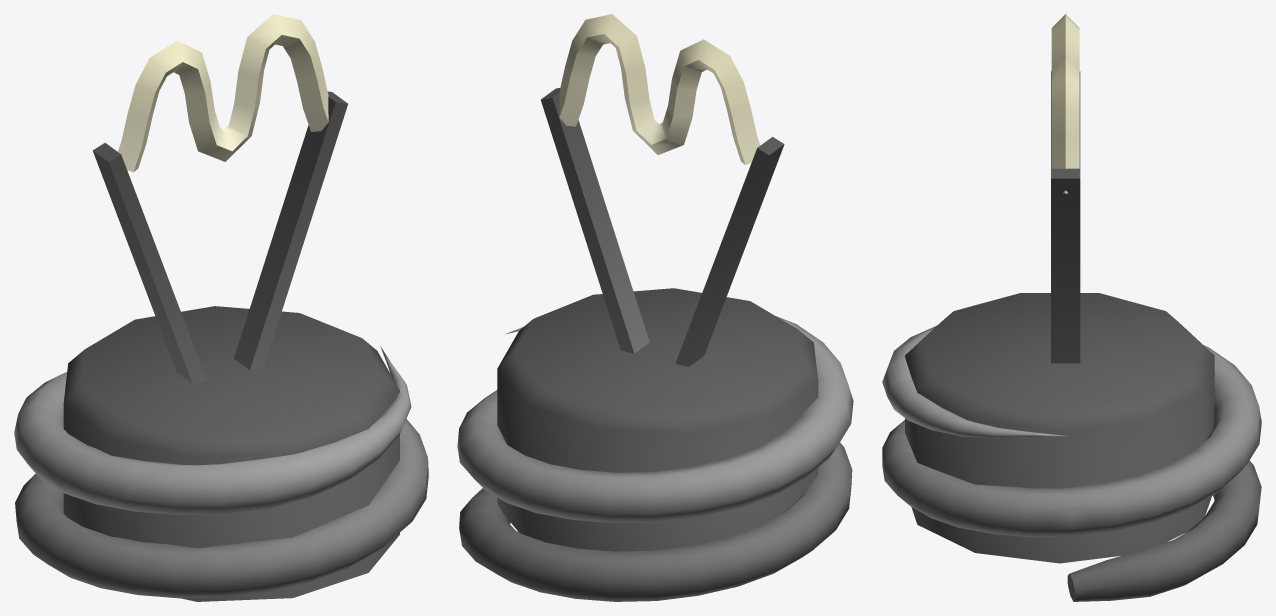
Rendered from lightbulbBase_on.fbx.
3 renders of one model, left to right at view 1: azimuth 30°, elevation 25°; view 2: azimuth 150°, elevation 25°; view 3: azimuth 270°, elevation 25°, orthographic. The views are drawn at different scales.
Visible parts, largest first — view 1: lightbulbBase; view 2: lightbulbBase; view 3: lightbulbBase.
Part boxes in pixels (bbox=[...]): lightbulbBase: bbox=[14, 14, 428, 601]; lightbulbBase: bbox=[457, 14, 853, 601]; lightbulbBase: bbox=[882, 14, 1261, 601].
Bounding box in the file's own units: 38.55 × 55.7 × 38.49.
1 material, 1 textured.
